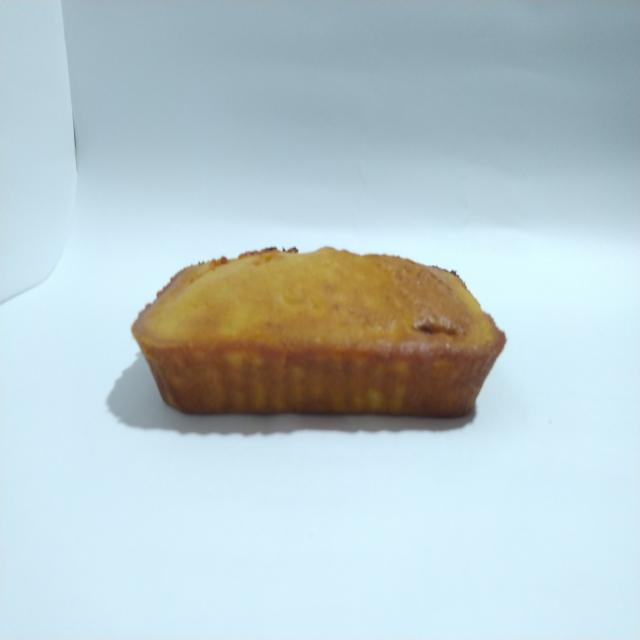Sopa: (123, 228, 512, 431)
